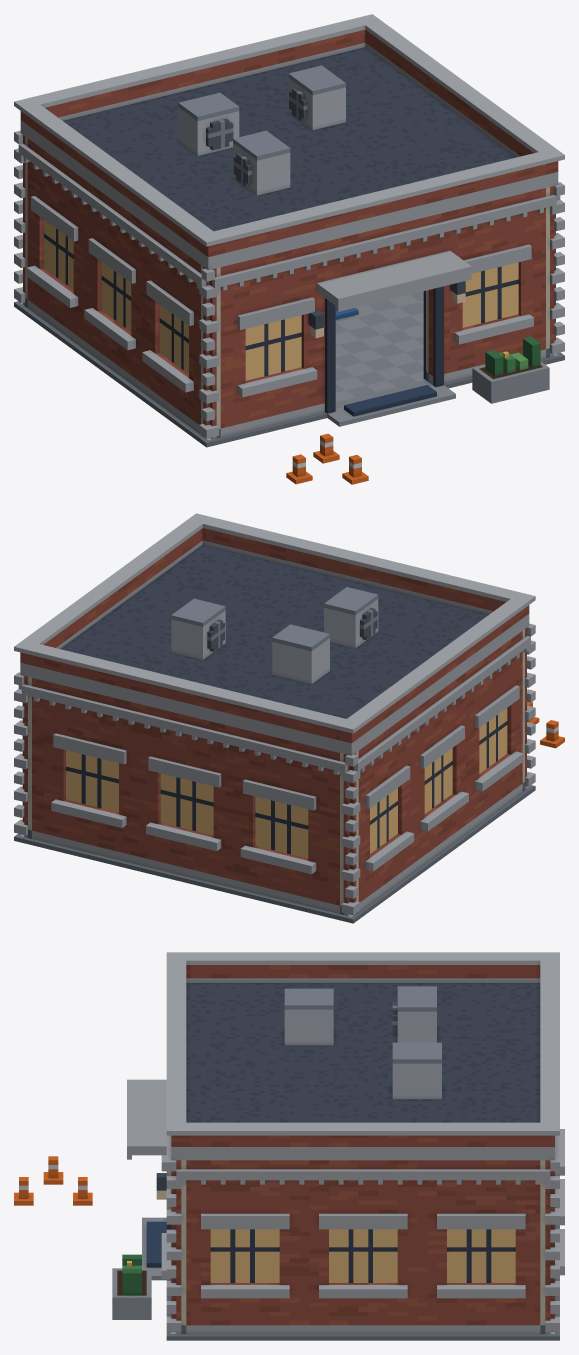
Rendered from training_e2_l1.glb.
The picture shows the model from 3 angles, top to bottom: view 1: azimuth 30°, elevation 25°; view 2: azimuth 150°, elevation 25°; view 3: azimuth 270°, elevation 25°; orthographic projection. The views are drawn at different scales.
Visible parts, largest first — view 1: CutRoof, CutPZ, Base, CutNX, CutNZ; view 2: CutRoof, CutNZ, CutNX, Base, CutPZ; view 3: CutRoof, CutPX, Base, CutPZ, CutNZ.
Part boxes in pixels (x1,y1,x2,y2): CutRoof: (14,14,564,270); CutPZ: (199,182,564,403); Base: (14,267,564,484); CutNX: (18,138,205,393); CutNZ: (14,130,27,268); CutRoof: (14,513,535,755); CutNZ: (14,672,360,882); CutNX: (354,631,530,872); Base: (14,702,564,923); CutPZ: (522,623,535,753); CutRoof: (166,952,559,1160); CutPX: (176,1160,550,1298); Base: (14,1156,559,1340); CutPZ: (127,1079,186,1295); CutNZ: (540,1129,564,1295).
Bounding box in the file's own units: 8.8 × 5.1 × 11.2.
